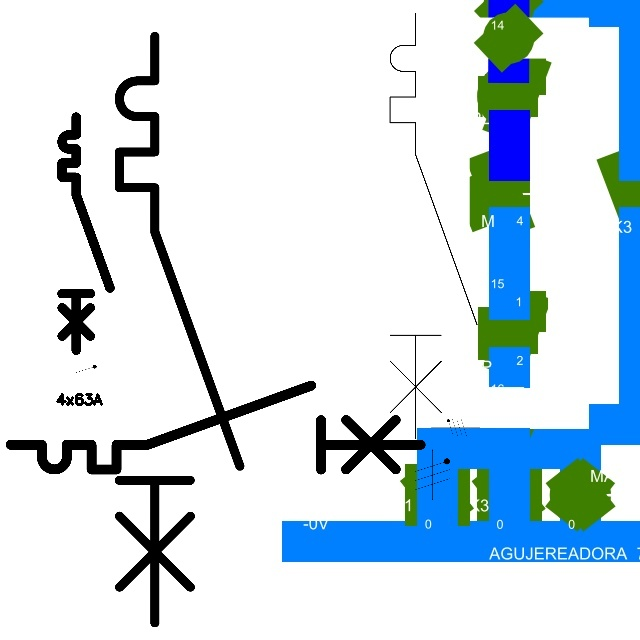interruptor_termomagnetico: (104, 21, 255, 637), (379, 2, 488, 449), (0, 375, 431, 480), (56, 111, 116, 356)
